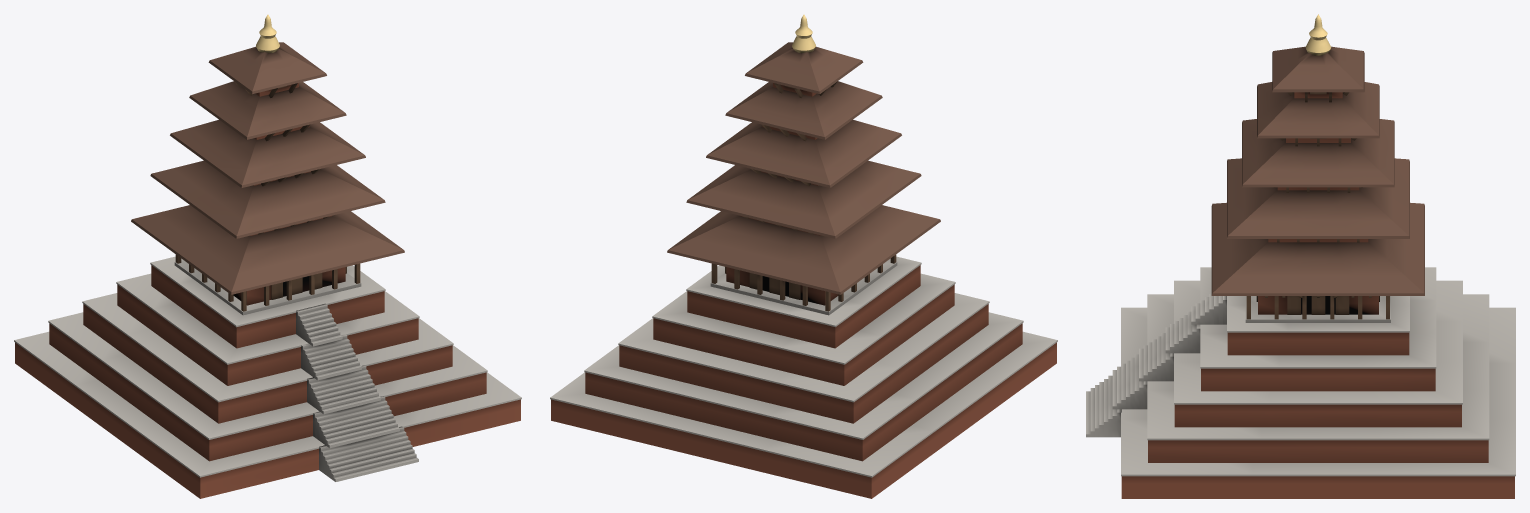
The model's file is nyatapola.glb.
3 views of the same model, side by side, from view 1: azimuth 30°, elevation 25°; view 2: azimuth 150°, elevation 25°; view 3: azimuth 270°, elevation 25° (orthographic). The views are drawn at different scales.
Visible parts, largest first — view 1: model-brick, model-tile, model-wood, model-gold; view 2: model-brick, model-tile, model-wood, model-gold; view 3: model-brick, model-tile, model-wood, model-gold.
Boxes of the visible parts, x1=… form: model-brick: x1=14, y1=83, x2=521, y2=498; model-tile: x1=131, y1=42, x2=404, y2=294; model-wood: x1=175, y1=81, x2=360, y2=311; model-gold: x1=256, y1=14, x2=279, y2=53; model-brick: x1=550, y1=83, x2=1057, y2=498; model-tile: x1=667, y1=42, x2=940, y2=294; model-wood: x1=711, y1=81, x2=896, y2=311; model-gold: x1=792, y1=14, x2=815, y2=53; model-brick: x1=1086, y1=92, x2=1515, y2=498; model-tile: x1=1211, y1=46, x2=1424, y2=295; model-wood: x1=1246, y1=92, x2=1389, y2=319; model-gold: x1=1305, y1=14, x2=1331, y2=55.
Bounding box in the file's own units: 26.1 × 29.3 × 28.4.
Materials: 4 (4 with a texture image).
